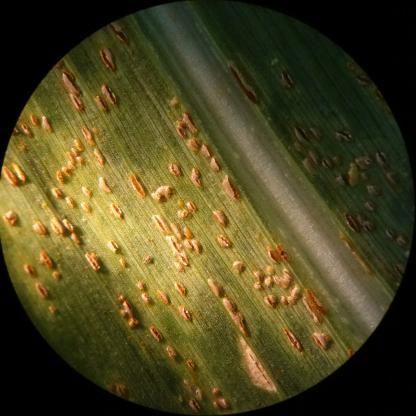Corn rust leaf: (8, 13, 412, 398)
